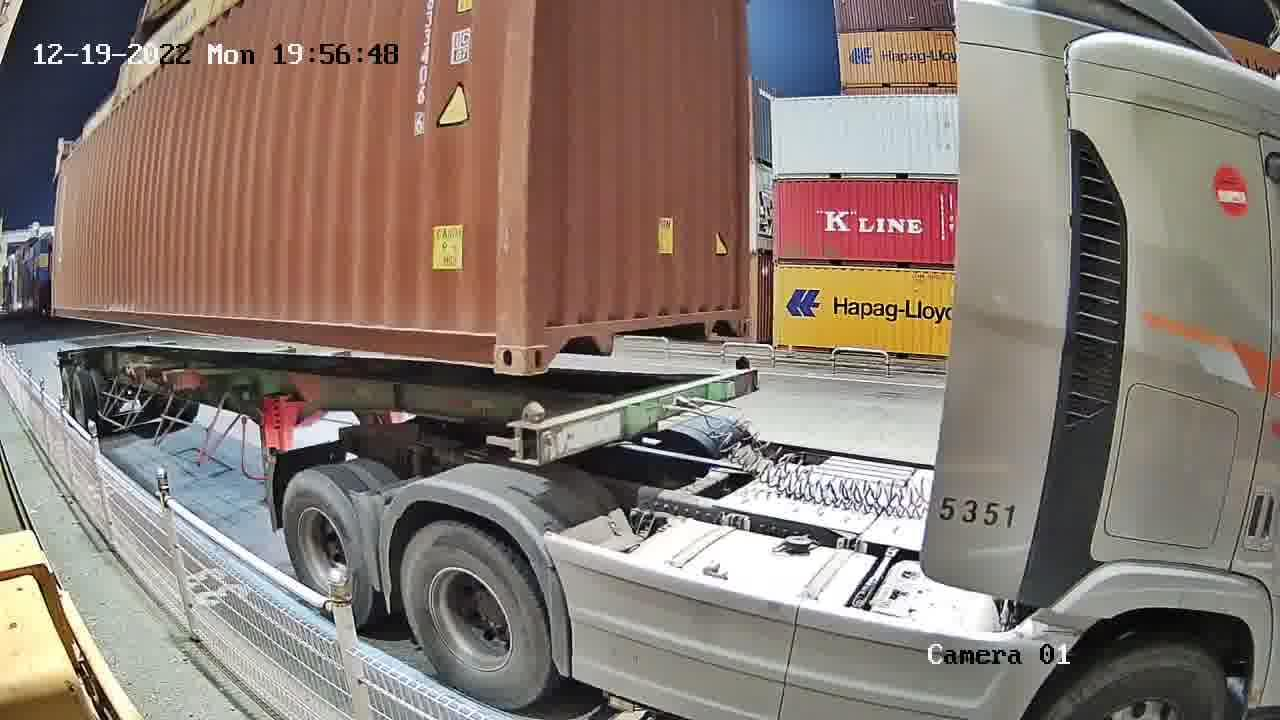Chassis: (512, 371, 755, 465)
Cone: (518, 403, 544, 467), (730, 353, 752, 371)
Hole_L: (523, 302, 580, 374), (720, 299, 752, 338)
Hole_R: (468, 302, 523, 375)
Tire: (400, 526, 549, 710), (280, 470, 370, 620)
